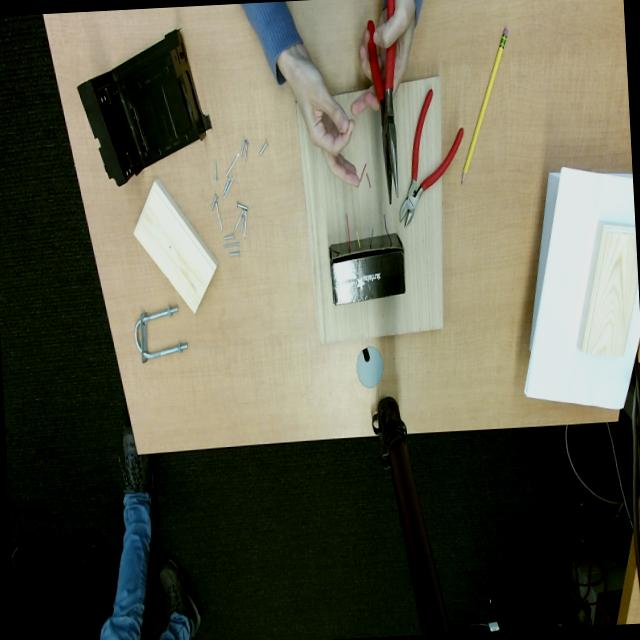pliers: (399, 89, 463, 225), (367, 21, 399, 203), (387, 0, 395, 17)
